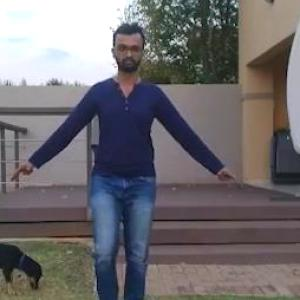land: (35, 42, 210, 299)
